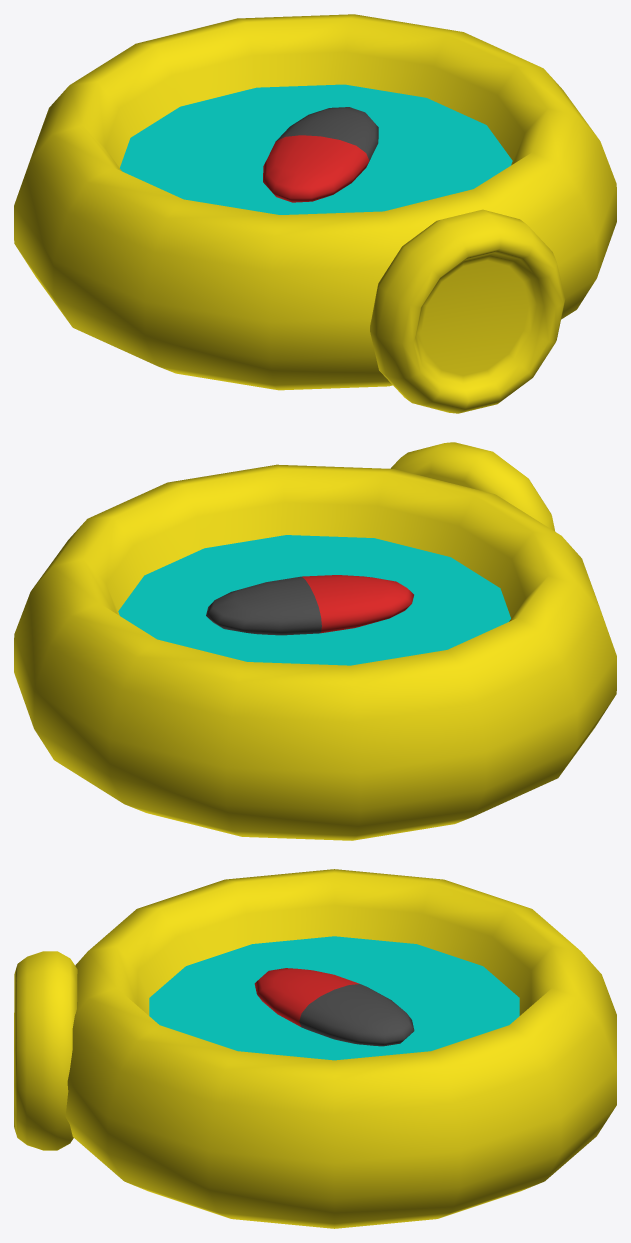
Rendered from Compass.fbx.
3 views of the same model, one above another, from view 1: azimuth 30°, elevation 25°; view 2: azimuth 150°, elevation 25°; view 3: azimuth 270°, elevation 25° (orthographic). The views are drawn at different scales.
Parts seen in each view (by area): view 1: Compass2, Compass5; view 2: Compass2, Compass5; view 3: Compass2, Compass5.
Boxes of the visible parts, <box> form: Compass2: <box>14,14,616,413</box>; Compass5: <box>263,107,378,202</box>; Compass2: <box>14,442,616,840</box>; Compass5: <box>206,575,413,635</box>; Compass2: <box>14,869,616,1228</box>; Compass5: <box>254,968,414,1046</box>.
Size of the model in its own units: 3.89 by 1.33 by 4.05.
